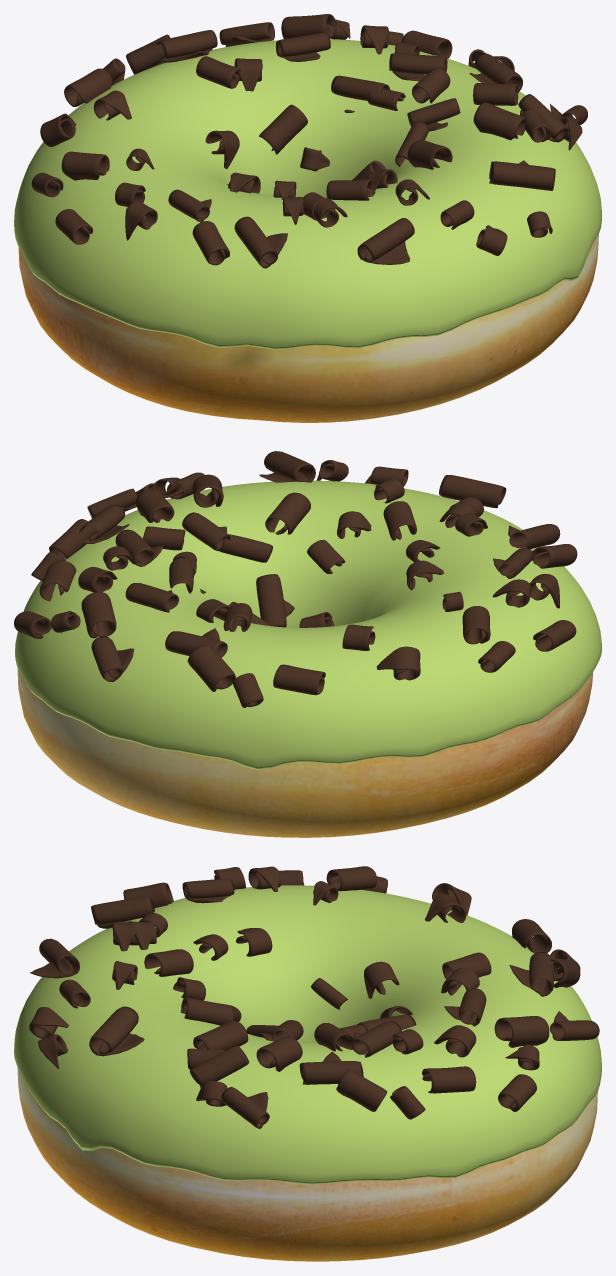
The model's file is pistachio dark curls.glb.
3 views of the same model, one above another, from view 1: azimuth 30°, elevation 25°; view 2: azimuth 150°, elevation 25°; view 3: azimuth 270°, elevation 25° (orthographic). The views are drawn at different scales.
Visible parts, largest first — view 1: chocolate, choco & straw, Torus; view 2: chocolate, choco & straw, Torus; view 3: chocolate, choco & straw, Torus.
Part boxes in pixels (x1,y1,x2,y2): chocolate: (14,39,601,349); choco & straw: (31,14,587,268); Torus: (18,234,598,422); chocolate: (15,480,601,769); choco & straw: (14,451,577,707); Torus: (17,668,592,837); chocolate: (14,885,601,1184); choco & straw: (29,866,599,1128); Torus: (17,1067,597,1261).
Bounding box in the file's own units: 0.1988 × 0.0804 × 0.1971.
3 materials, 1 textured.
